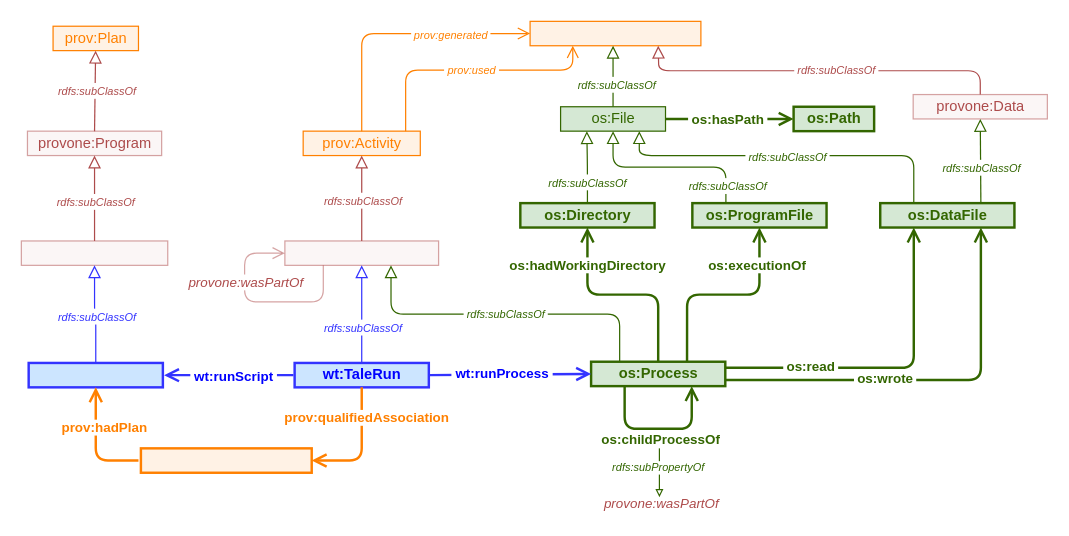
Some shapes in this 1069 by 536 pixel diagram are drawn without their labels. Each missing label, with the box of its shape:
prov:Association: (139, 447, 312, 473)
prov:Entity: (529, 20, 701, 46)
provone:Execution: (284, 240, 439, 265)
provone:Workflow: (20, 240, 168, 265)
wt:TaleRunScript: (27, 361, 163, 388)
